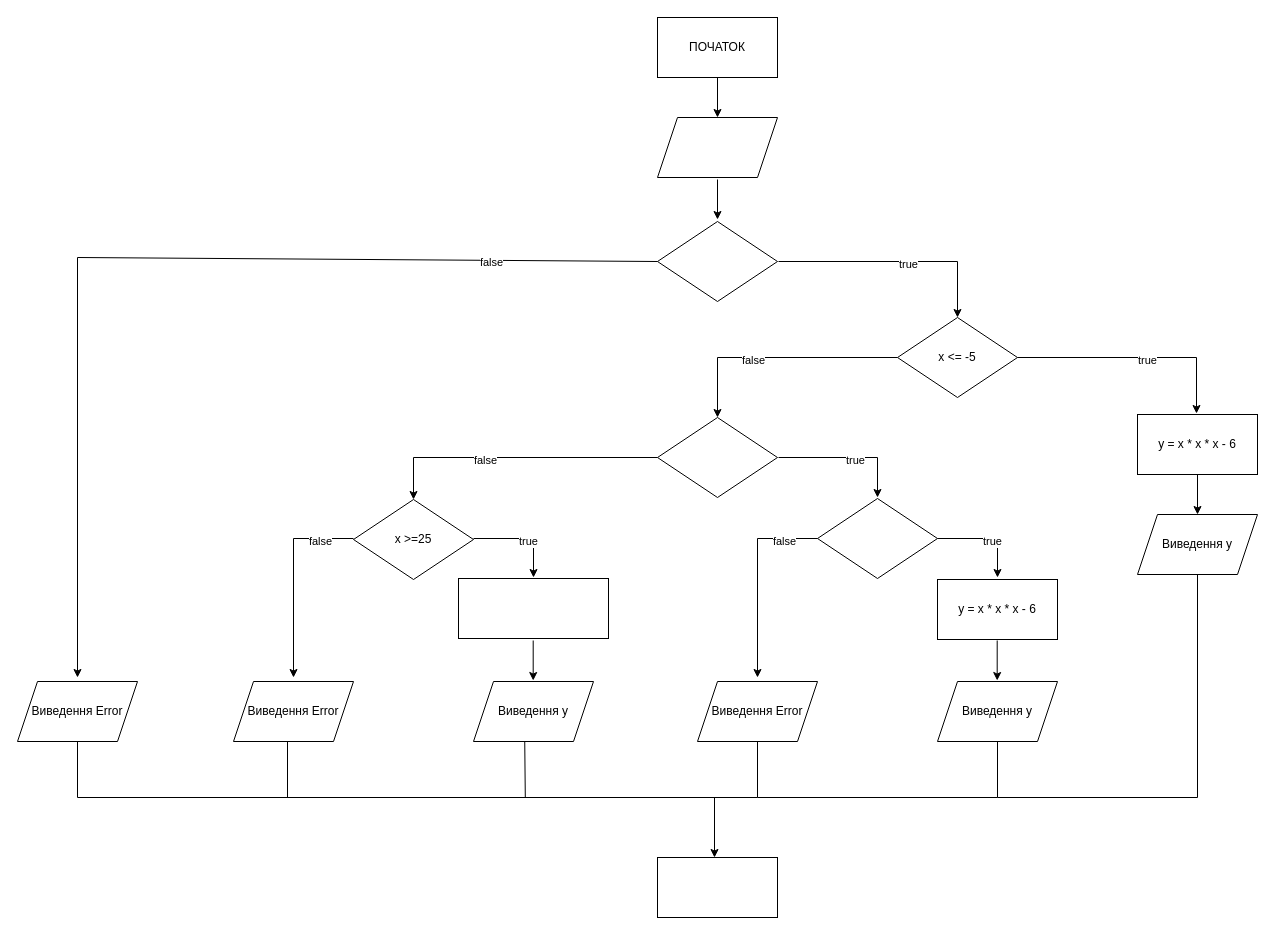
Image size: 1275x935. Some labels were removed from this diagram. Each missing label, with the box of its shape:
x <= 15: (816, 498, 938, 578)
x > -10: (656, 220, 778, 302)
x > 5: (656, 416, 778, 498)
y = 2 * x * x * x - 3 * x + 2: (458, 578, 608, 638)
Введення x: (656, 116, 778, 178)
КІНЕЦЬ: (656, 856, 778, 918)
